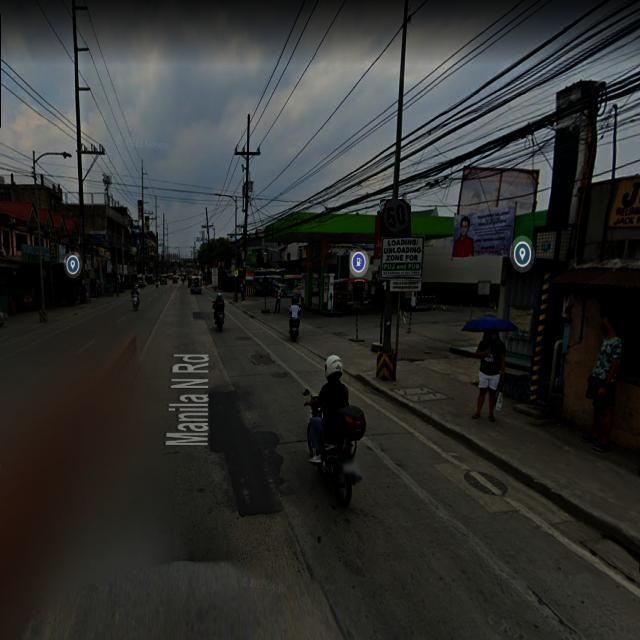50 kph: (380, 200, 411, 238)
